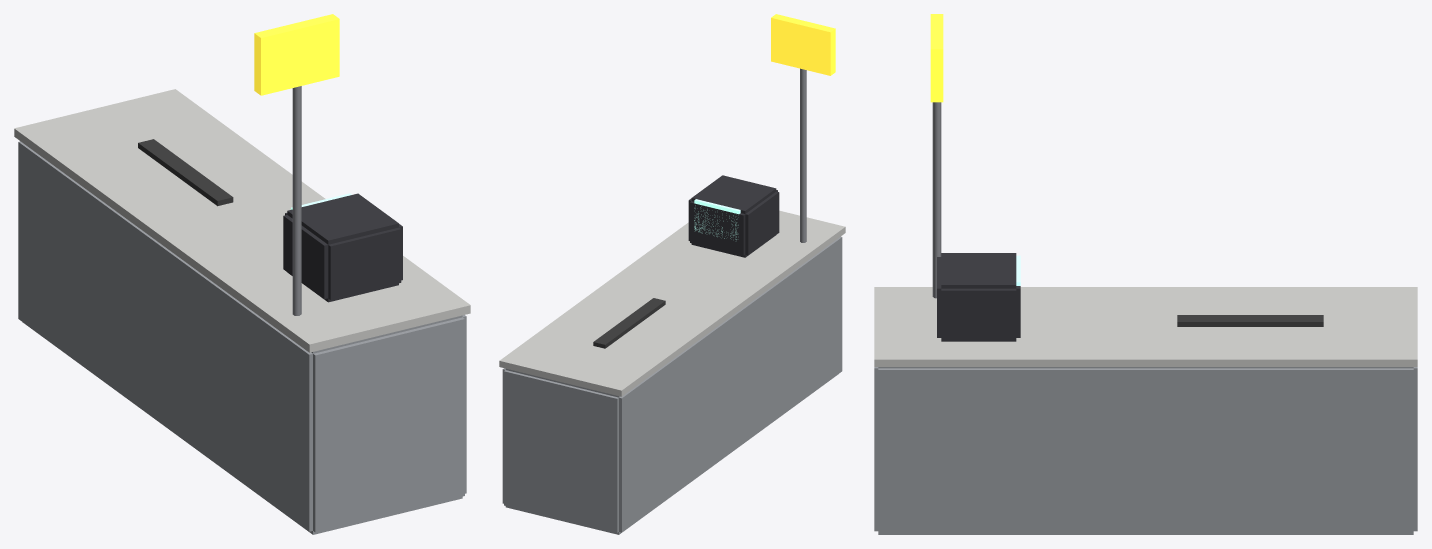
File: checkout_lane.glb
3 renders of one model, left to right at view 1: azimuth 30°, elevation 25°; view 2: azimuth 150°, elevation 25°; view 3: azimuth 270°, elevation 25°, orthographic. The views are drawn at different scales.
Visible parts, largest first — view 1: checkout_lane; view 2: checkout_lane; view 3: checkout_lane.
Part boxes in pixels (x1,y1,x2,y2): checkout_lane: [14, 14, 470, 534]; checkout_lane: [499, 14, 845, 534]; checkout_lane: [874, 14, 1417, 534].
Size of the model in its own units: 0.91 by 2.34 by 2.6.
